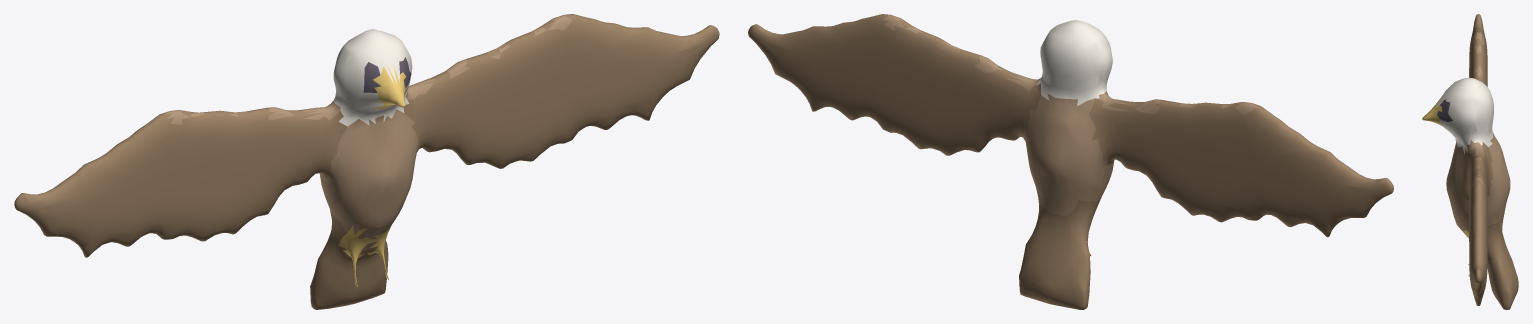
File: bird.glb
3 renders of one model, left to right at view 1: azimuth 30°, elevation 25°; view 2: azimuth 150°, elevation 25°; view 3: azimuth 270°, elevation 25°, orthographic. The views are drawn at different scales.
Visible parts, largest first — view 1: bird; view 2: bird; view 3: bird.
Part boxes in pixels (x1,y1,x2,y2): bird: (14, 14, 719, 309); bird: (748, 14, 1393, 309); bird: (1422, 14, 1518, 309).
Bounding box in the file's own units: 72.45 × 28.43 × 11.32.
